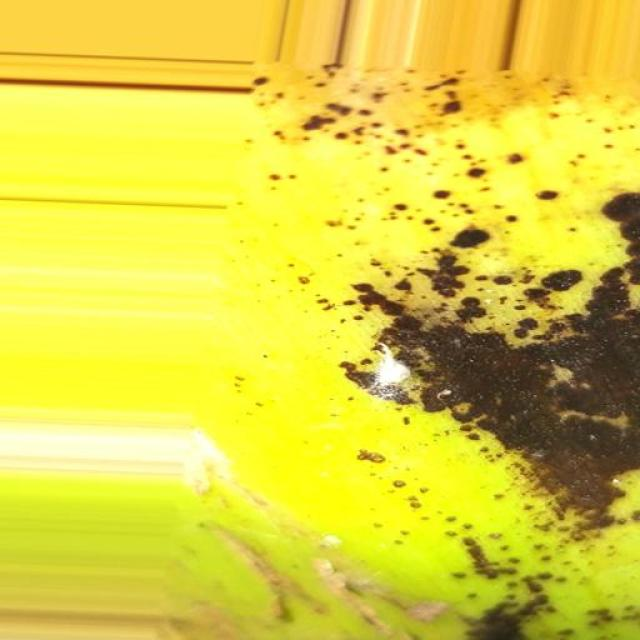Anthracnose: (49, 58, 640, 640)
